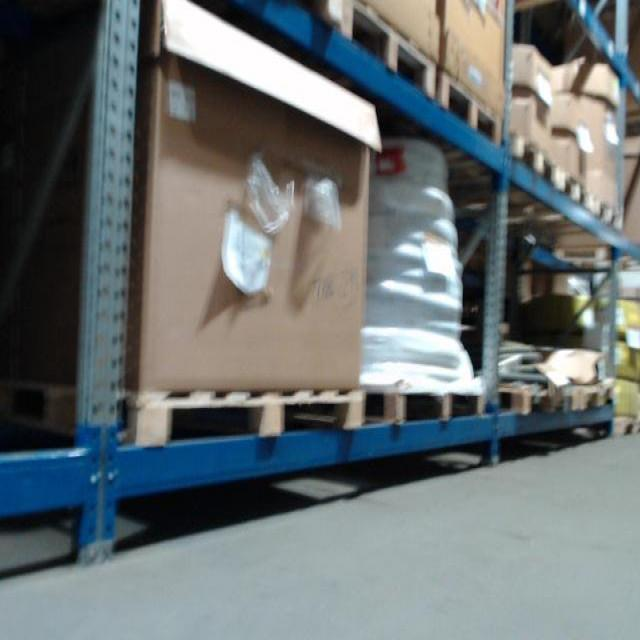pallet: (1, 368, 365, 449), (342, 0, 438, 103), (439, 67, 502, 149), (364, 385, 486, 426), (511, 131, 561, 193), (497, 381, 578, 415), (558, 169, 592, 213), (578, 381, 618, 412), (592, 197, 624, 231), (614, 414, 640, 438)
